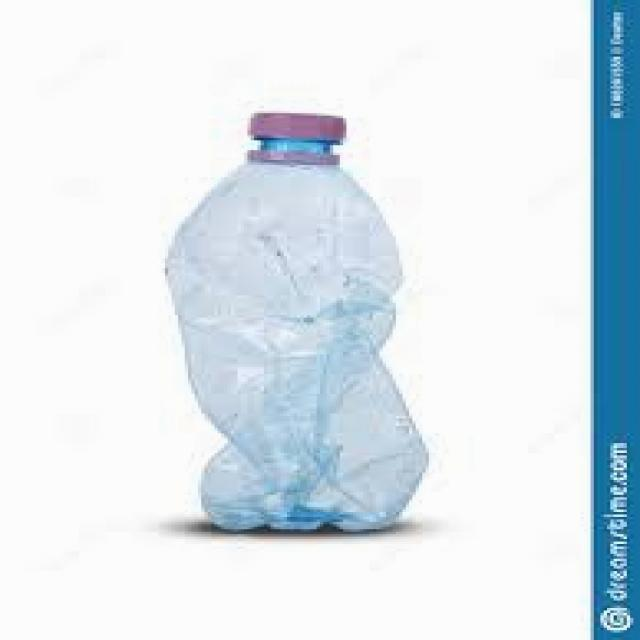defected: (158, 83, 454, 543)
